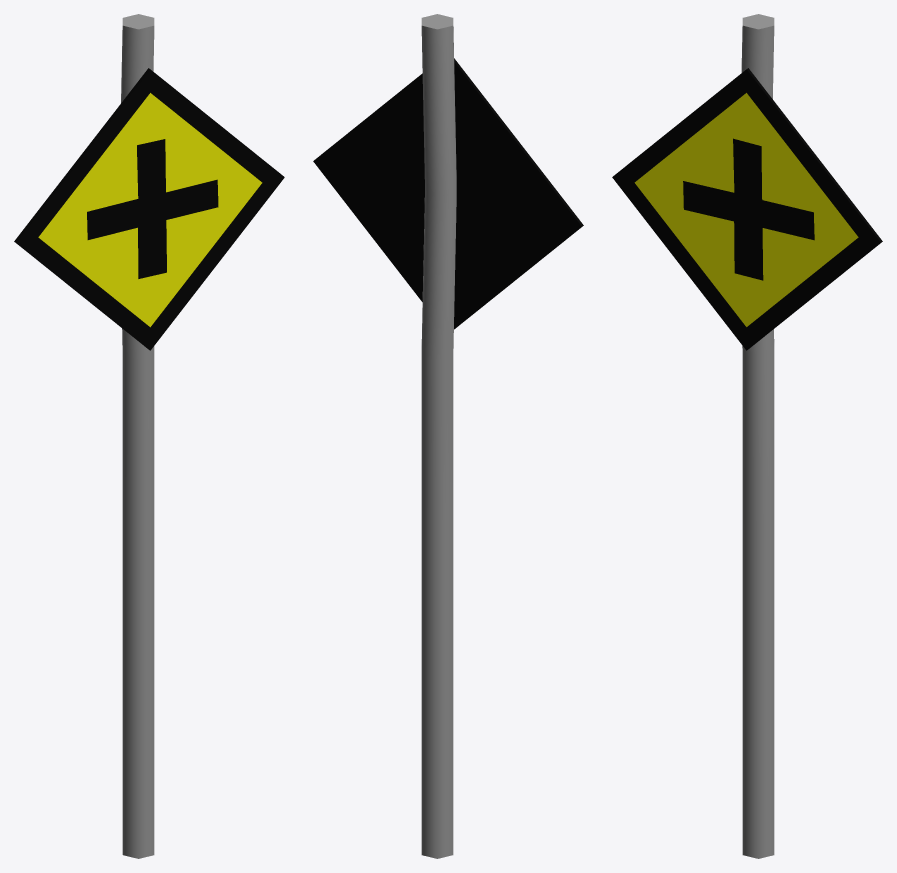
Rendered from Crossjunction road sign.FBX.
The picture shows the model from 3 angles, left to right: view 1: azimuth 30°, elevation 25°; view 2: azimuth 150°, elevation 25°; view 3: azimuth 330°, elevation 25°; orthographic projection.
Parts seen in each view (by area): view 1: + sign; view 2: + sign; view 3: + sign.
Part boxes in pixels (x1,y1,x2,y2): + sign: (14,14,284,858); + sign: (313,14,583,858); + sign: (612,14,882,858).
Bounding box in the file's own units: 33.41 × 98.43 × 4.26.
